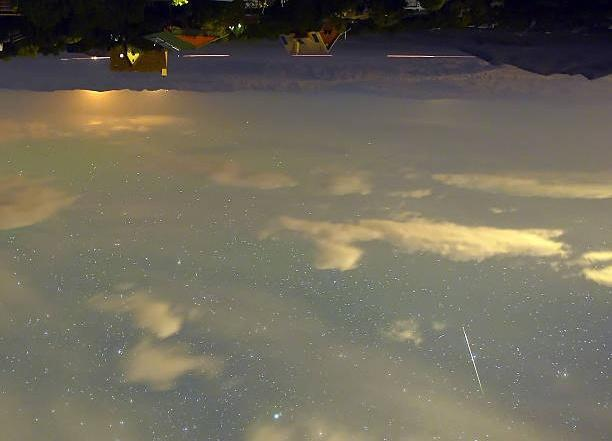meteorite: (450, 320, 502, 400)
